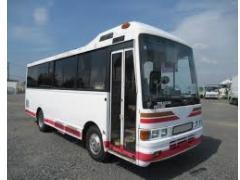bus: (26, 21, 204, 168)
